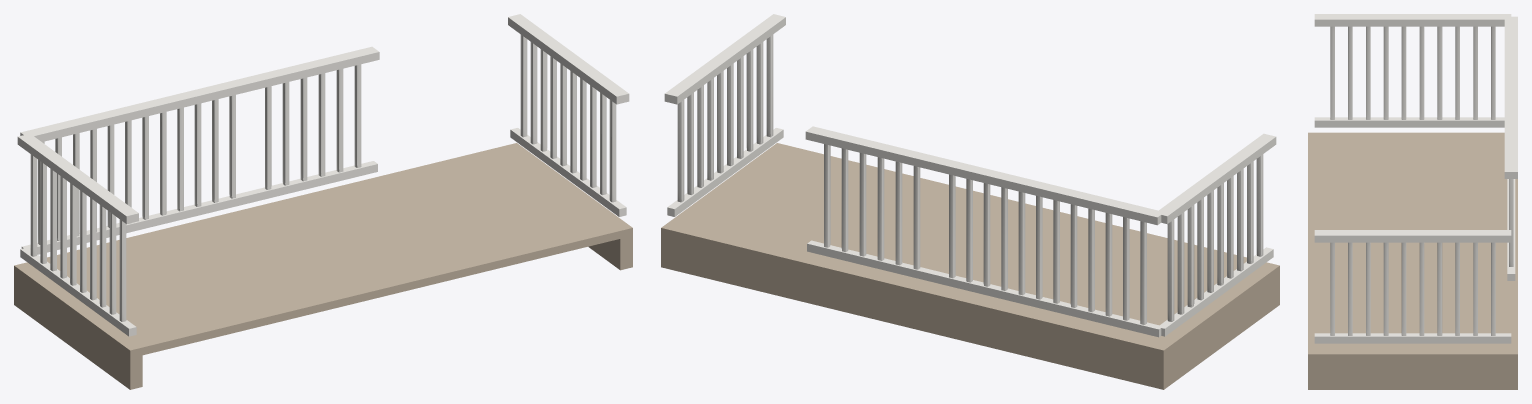
The model's file is porch_deck_top.glb.
3 renders of one model, left to right at view 1: azimuth 30°, elevation 25°; view 2: azimuth 150°, elevation 25°; view 3: azimuth 270°, elevation 25°, orthographic. The views are drawn at different scales.
Visible parts, largest first — view 1: porch_deck_top_wood, porch_deck_top_trim; view 2: porch_deck_top_wood, porch_deck_top_trim; view 3: porch_deck_top_wood, porch_deck_top_trim.
Part boxes in pixels (x1=…): porch_deck_top_wood: x1=14, y1=143, x2=632, y2=389; porch_deck_top_trim: x1=17, y1=14, x2=629, y2=336; porch_deck_top_wood: x1=661, y1=143, x2=1279, y2=389; porch_deck_top_trim: x1=664, y1=14, x2=1276, y2=337; porch_deck_top_wood: x1=1308, y1=132, x2=1517, y2=389; porch_deck_top_trim: x1=1314, y1=14, x2=1517, y2=343.
Bounding box in the file's own units: 4 × 1.3 × 1.6.
